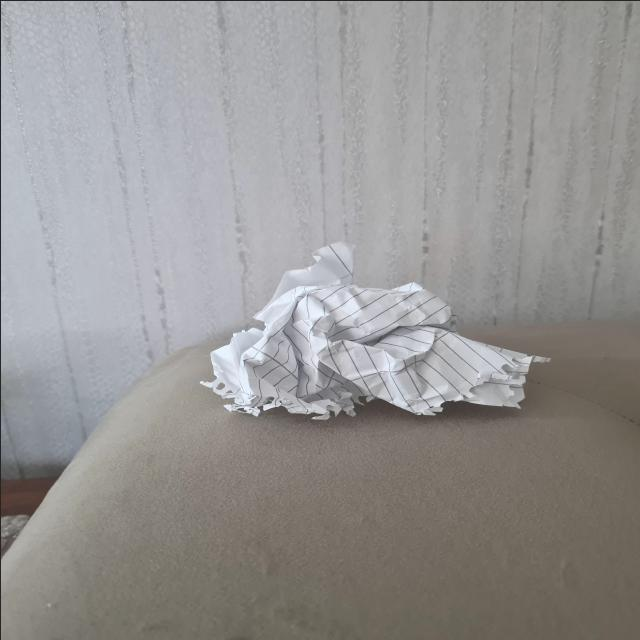Paper: (190, 234, 541, 438)
